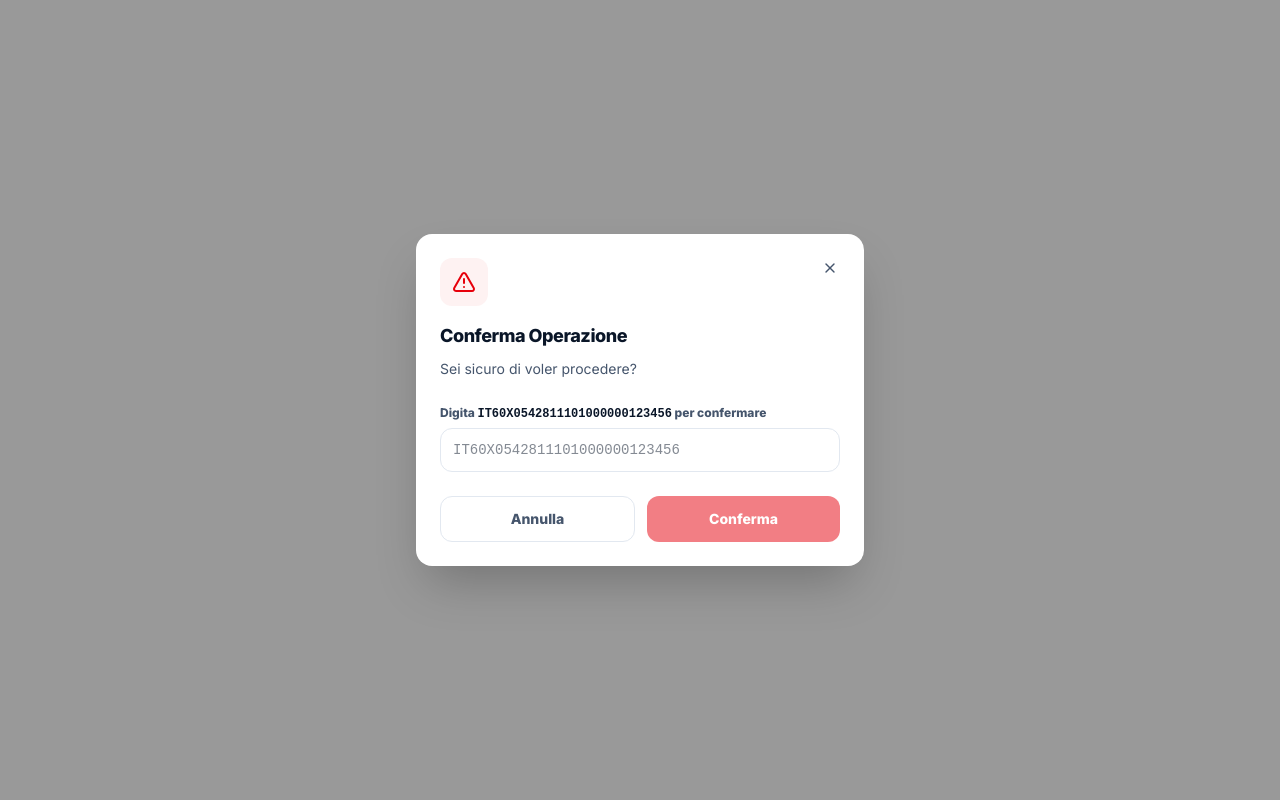
ConfirmModal › requireTyped (destructive confirmation) › enables confirm once the value matches, ignoring case and spaces
Type "it60 x0542 8111 0100 0000 123 456" into the field labelled "Digita IT60X0542811101000000123456 per confermare" at (640, 450), box [440,428,840,472]
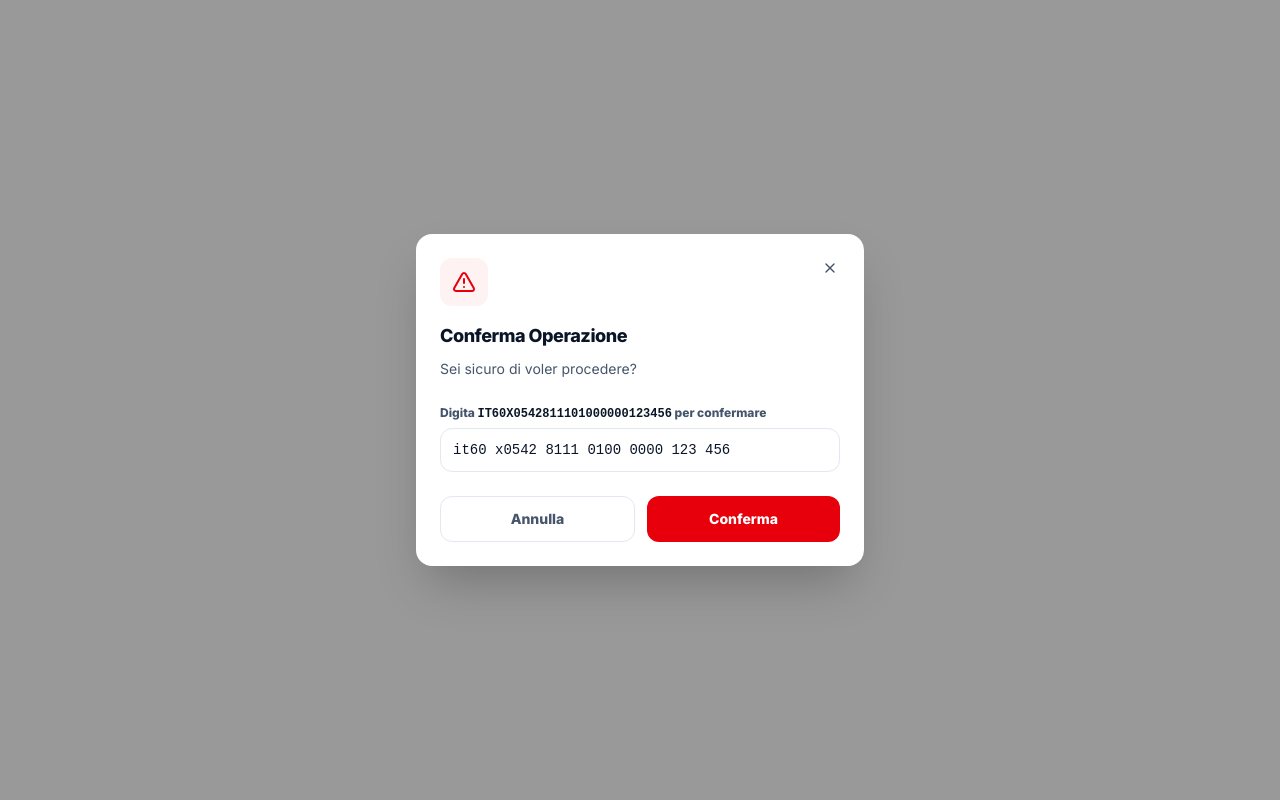
Result: the button "Conferma" is enabled at [647,496,840,542]
